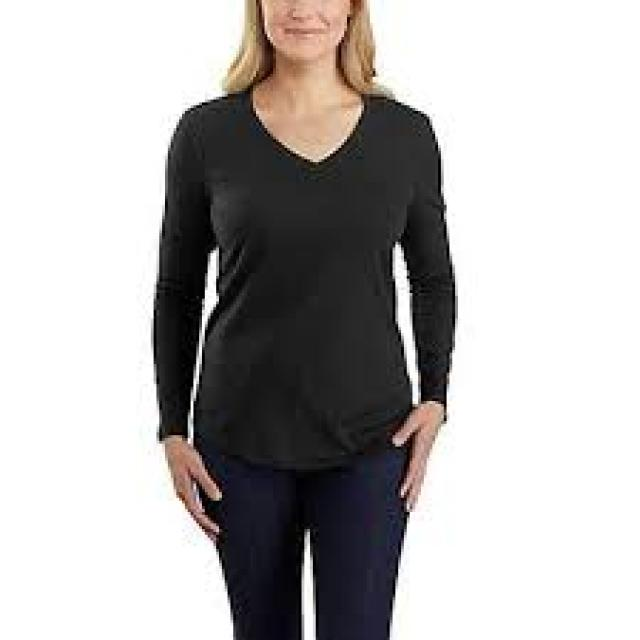plain: (146, 77, 462, 457)
